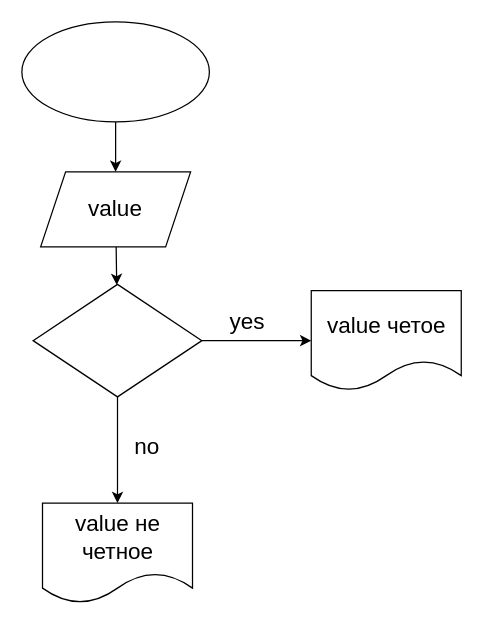
Image size: 484x625. Some labels were removed from this diagram. Each missing label, with the centre of its shape:
stsrt: pixel 115 71
value%2: pixel 117 340
